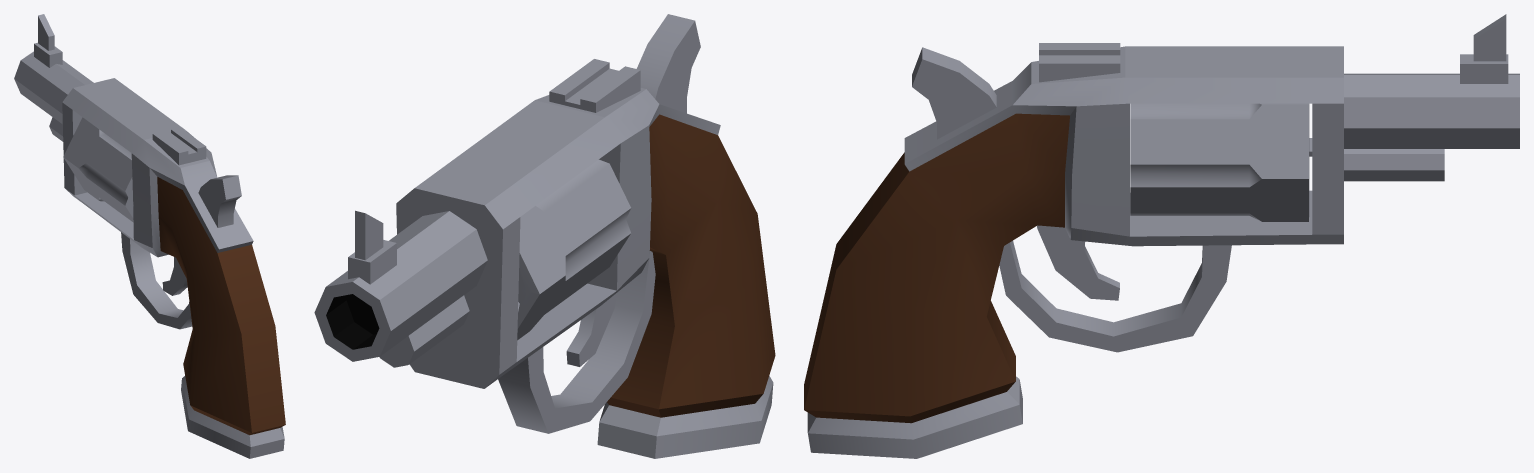
Rendered from Revolver.fbx.
3 renders of one model, left to right at view 1: azimuth 30°, elevation 25°; view 2: azimuth 150°, elevation 25°; view 3: azimuth 270°, elevation 25°, orthographic. The views are drawn at different scales.
Parts seen in each view (by area): view 1: Revolver_Base, Revolver_Cylinder, polySurface6, Revolver_Hammer, Revolver_Trigger; view 2: Revolver_Base, Revolver_Cylinder, polySurface6, Revolver_Hammer, Revolver_Trigger; view 3: Revolver_Base, Revolver_Cylinder, polySurface6, Revolver_Hammer, Revolver_Trigger.
Part boxes in pixels (<box>): Revolver_Base: <box>14,14,285,458</box>; Revolver_Cylinder: <box>63,117,133,222</box>; polySurface6: <box>121,232,192,329</box>; Revolver_Hammer: <box>198,175,241,227</box>; Revolver_Trigger: <box>162,257,187,295</box>; Revolver_Base: <box>314,59,775,458</box>; Revolver_Cylinder: <box>517,159,630,340</box>; polySurface6: <box>498,251,655,433</box>; Revolver_Hammer: <box>636,14,700,113</box>; Revolver_Trigger: <box>566,292,617,366</box>; Revolver_Base: <box>804,14,1519,458</box>; Revolver_Cylinder: <box>1130,103,1312,221</box>; polySurface6: <box>999,240,1231,352</box>; Revolver_Hammer: <box>912,47,996,139</box>; Revolver_Trigger: <box>1037,225,1119,300</box>.
Bounding box in the file's own units: 2.61 × 7.74 × 11.86.
